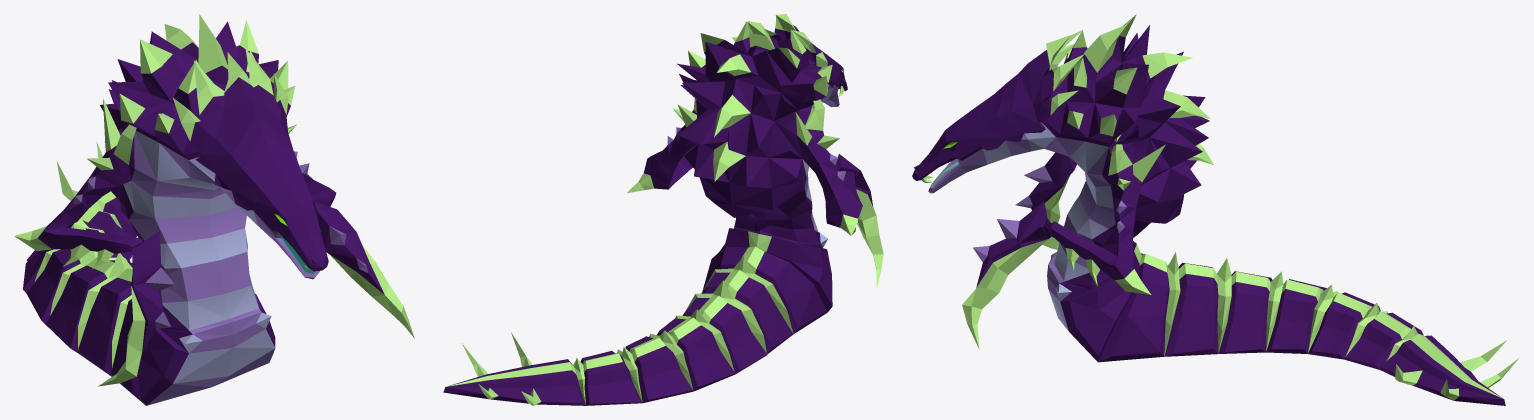
3 views of the same model, side by side, from view 1: azimuth 30°, elevation 25°; view 2: azimuth 150°, elevation 25°; view 3: azimuth 270°, elevation 25° (orthographic). The views are drawn at different scales.
Parts seen in each view (by area): view 1: Alien_Serpent; view 2: Alien_Serpent; view 3: Alien_Serpent.
Boxes of the visible parts, x1,y1,x2,y2 form: Alien_Serpent: [14, 14, 414, 405]; Alien_Serpent: [443, 14, 883, 405]; Alien_Serpent: [912, 14, 1518, 405].
Bounding box in the file's own units: 212 × 218 × 372.
1 material, 1 textured.
